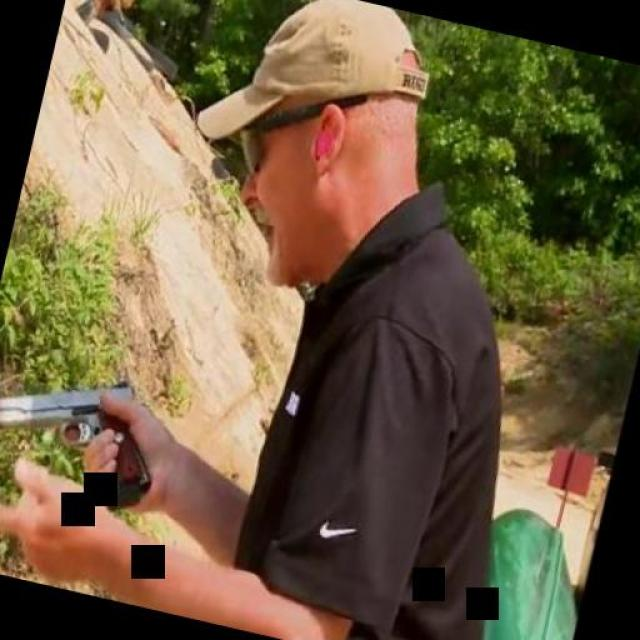gun: (0, 349, 178, 516)
